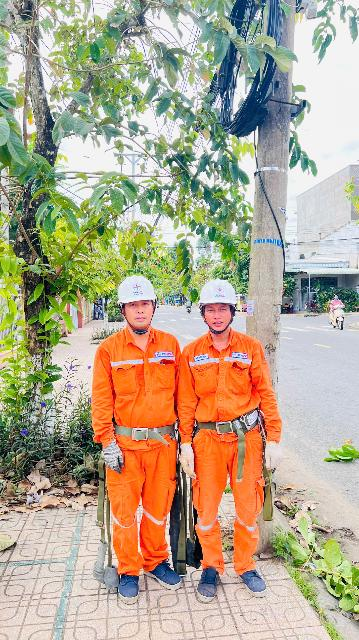gloves: (169, 441, 202, 477), (97, 440, 129, 473), (262, 435, 284, 467)
harness: (191, 404, 276, 444), (101, 411, 181, 444)
helmet: (190, 277, 245, 307), (119, 273, 159, 308)
shoes: (189, 549, 226, 606), (112, 559, 142, 607), (146, 552, 179, 591), (237, 558, 266, 601)
